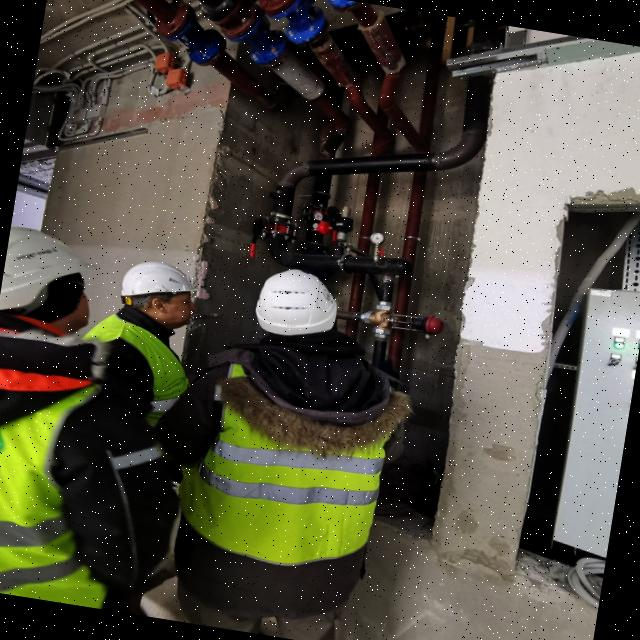Helmet: (1, 223, 99, 328), (253, 265, 347, 348), (117, 256, 208, 316)
Jacket: (189, 334, 396, 570), (1, 319, 139, 608), (93, 306, 191, 419)
